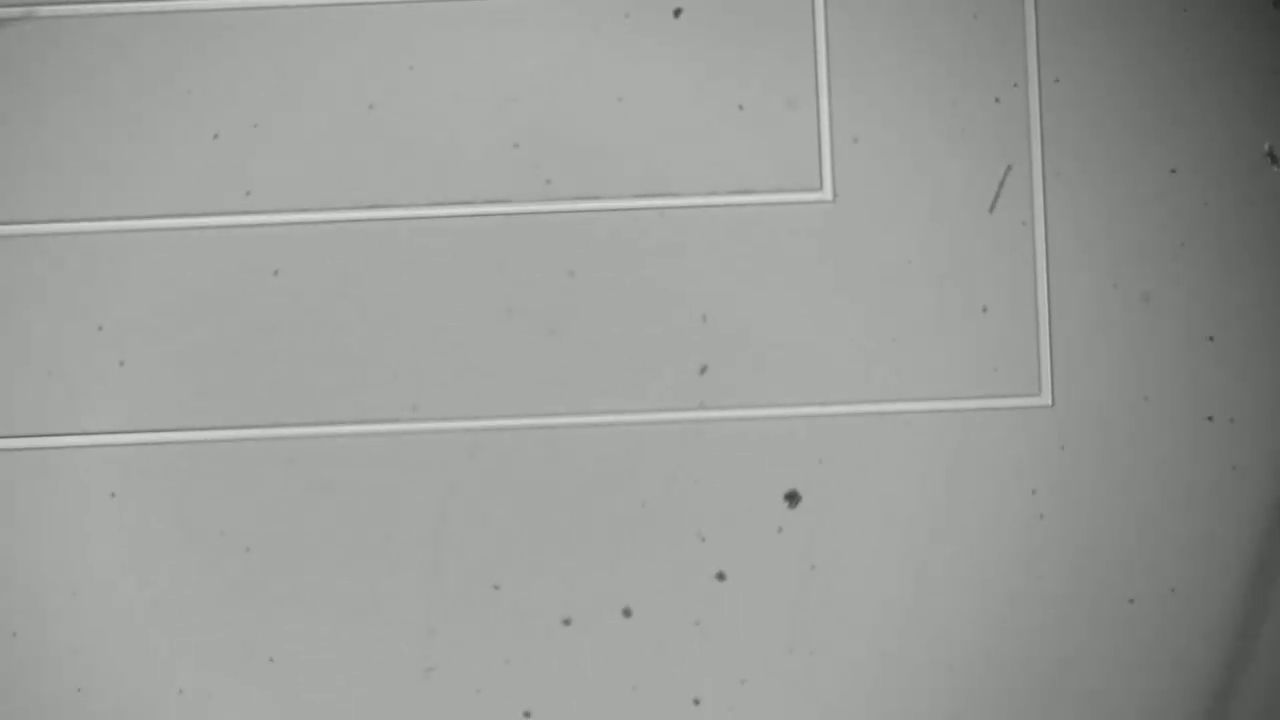scratch: (984, 151, 1019, 225)
